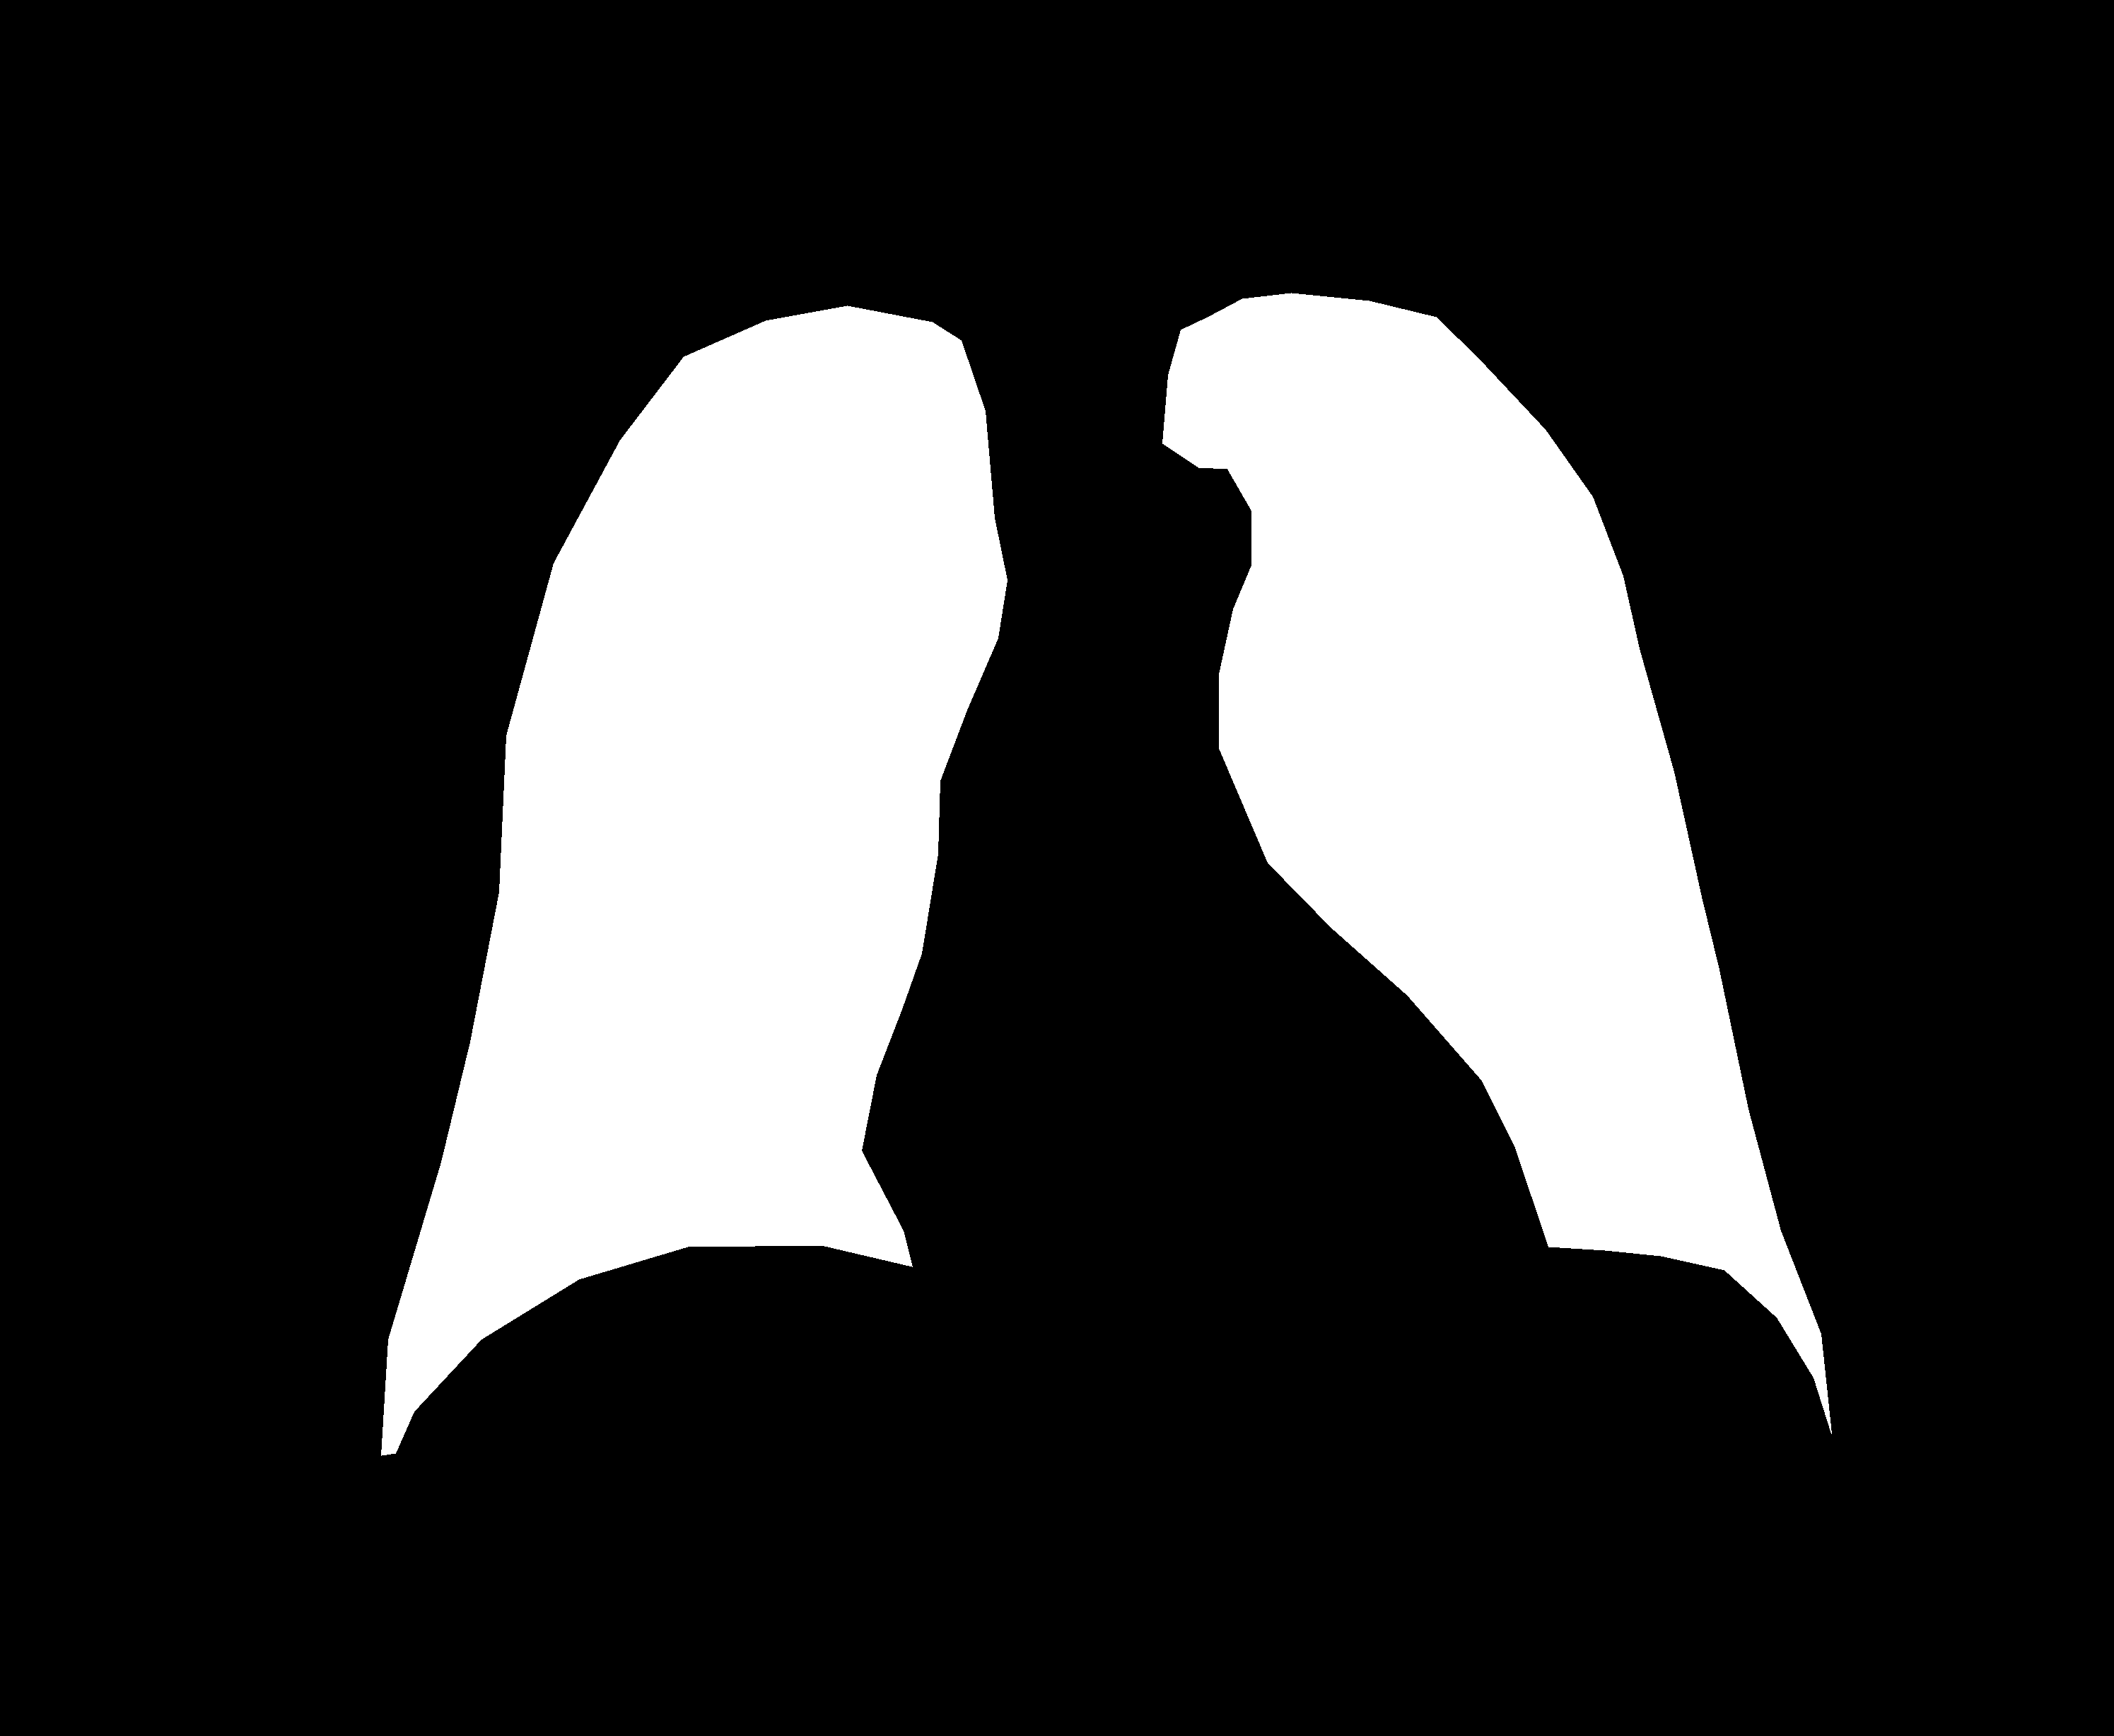heart: (869, 695, 1531, 1306)
left_lung: (381, 305, 1006, 1455)
right_lung: (1162, 293, 1831, 1434)
